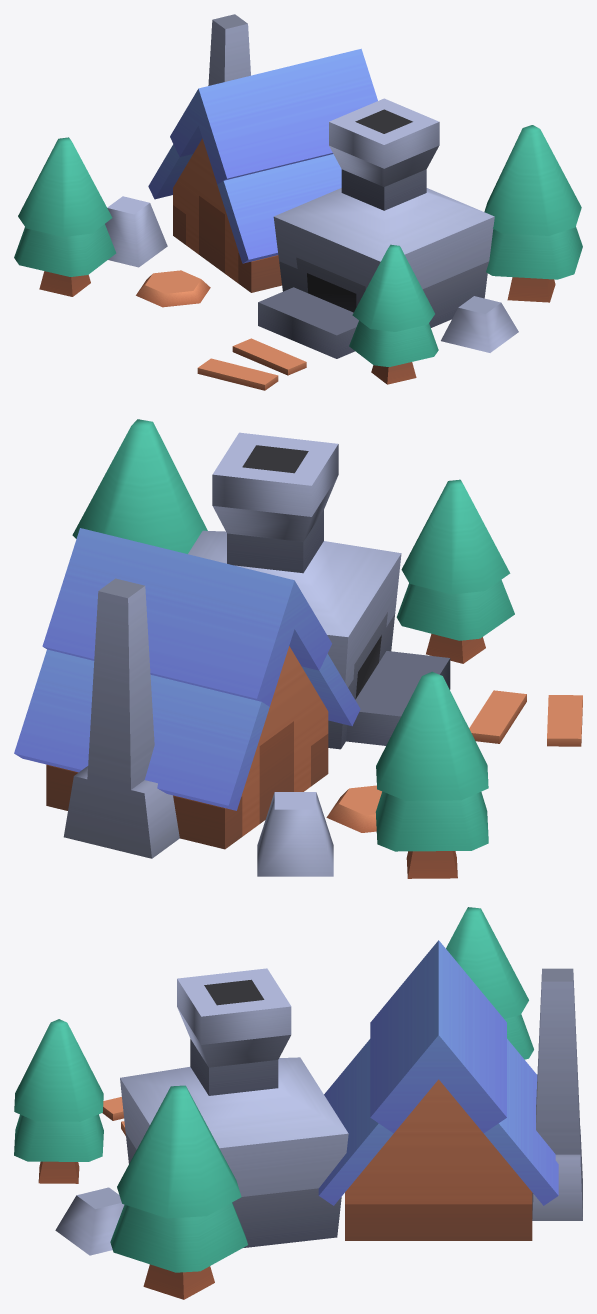
The model's file is smelter.fbx.
3 renders of one model, top to bottom at view 1: azimuth 30°, elevation 25°; view 2: azimuth 150°, elevation 25°; view 3: azimuth 270°, elevation 25°, orthographic. The views are drawn at different scales.
Visible parts, largest first — view 1: building_smelter; view 2: building_smelter; view 3: building_smelter.
Boxes of the visible parts, x1=… form: building_smelter: x1=14, y1=14, x2=582, y2=390; building_smelter: x1=14, y1=419, x2=582, y2=878; building_smelter: x1=14, y1=907, x2=582, y2=1299.
Size of the model in its own units: 96.68 by 40 by 91.11.
